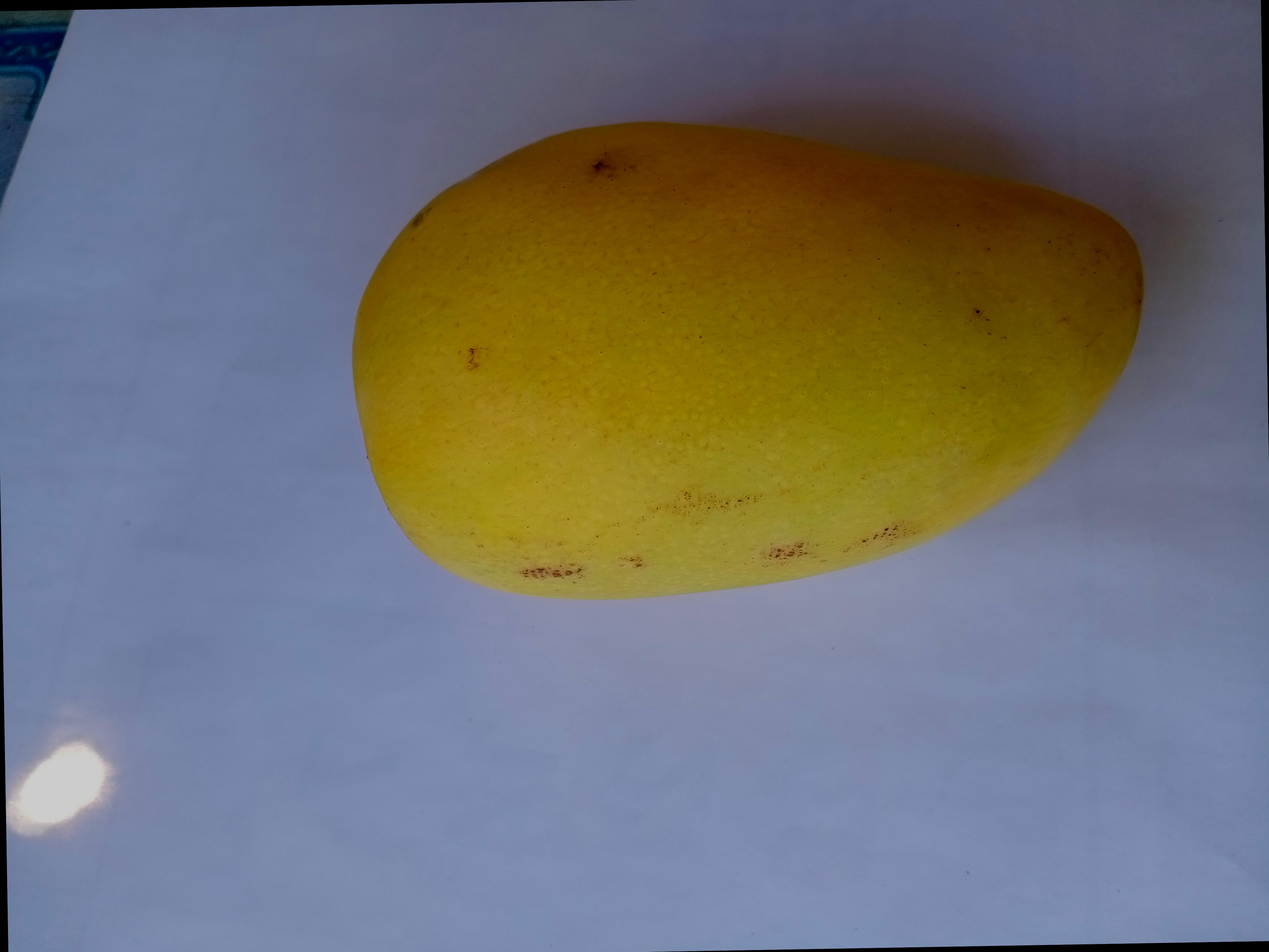Mango Ripe: (245, 79, 1190, 645)
